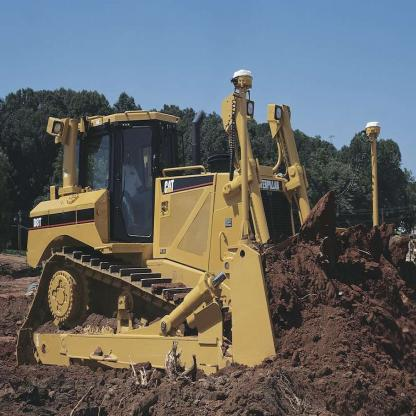bull_dozer/loader/grader: (15, 61, 389, 402)
